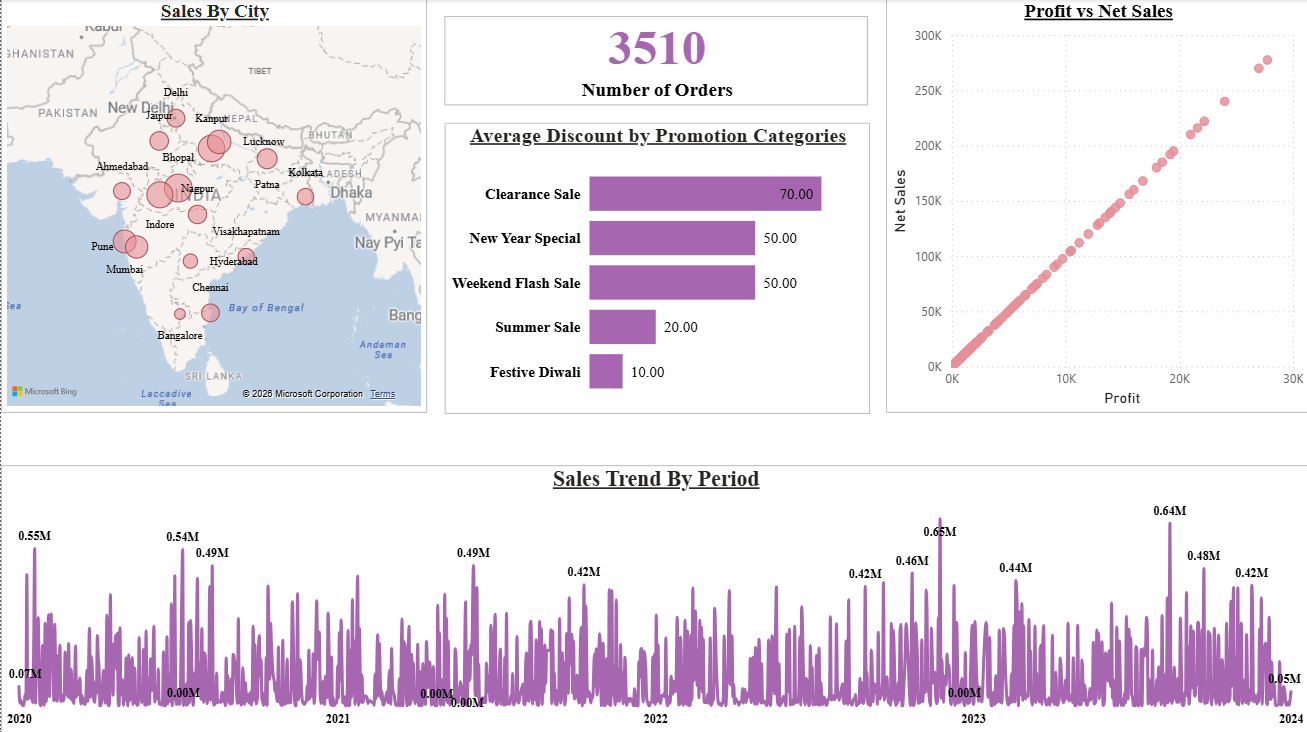

What the dashboard file says about the page in this screenshot:
{"tool":"powerbi","page":{"name":"Overview","canvas":[1280,720],"ordinal":0},"visuals":[{"type":"scatterChart","title":"Profit vs Net Sales","fields":{"X":["Fact Table.Profit"],"Y":["Fact Table.Net Sales"]},"box":[865.5,0,414.5,404.8],"z":0},{"type":"lineChart","title":"Sales Trend By Period","fields":{"Y":["Sum(Fact Table.Net Sales)"],"Category":["DateTable1.Date.Variation.Date Hierarchy.Year","DateTable1.Date.Variation.Date Hierarchy.Quarter","DateTable1.Date.Variation.Date Hierarchy.Month","DateTable1.Date.Variation.Date Hierarchy.Day"]},"box":[0,456.1,1280.3,264.1],"z":1000},{"type":"barChart","title":"Average Discount by Promotion Categories","fields":{"Y":["Avg(Fact Table.Discount)"],"Category":["Dim Promotion.Promotion Name"]},"box":[433.5,121.1,415.8,284.9],"z":2000},{"type":"map","title":"Sales By City ","fields":{"Category":["Dim Customers.City"],"Size":["Sum(Fact Table.Net Sales)"]},"box":[0,0,417,404.8],"z":3000},{"type":"cardVisual","fields":{"Data":["Count(Fact Table.OrderId)"]},"box":[417,0,448.8,121.1],"z":4000}]}

Visuals, with their boxes in screenshot pixels (x1, y1, x2, y2), scaled from the page's 1280x720 canvas onto the 1307x732 screenshot:
"Profit vs Net Sales" scatterChart: <box>884,0,1306,412</box>
"Sales Trend By Period" lineChart: <box>0,464,1306,731</box>
"Average Discount by Promotion Categories" barChart: <box>443,123,867,413</box>
"Sales By City " map: <box>0,0,426,412</box>
cardVisual - Count(Fact Table.OrderId): <box>426,0,884,123</box>
